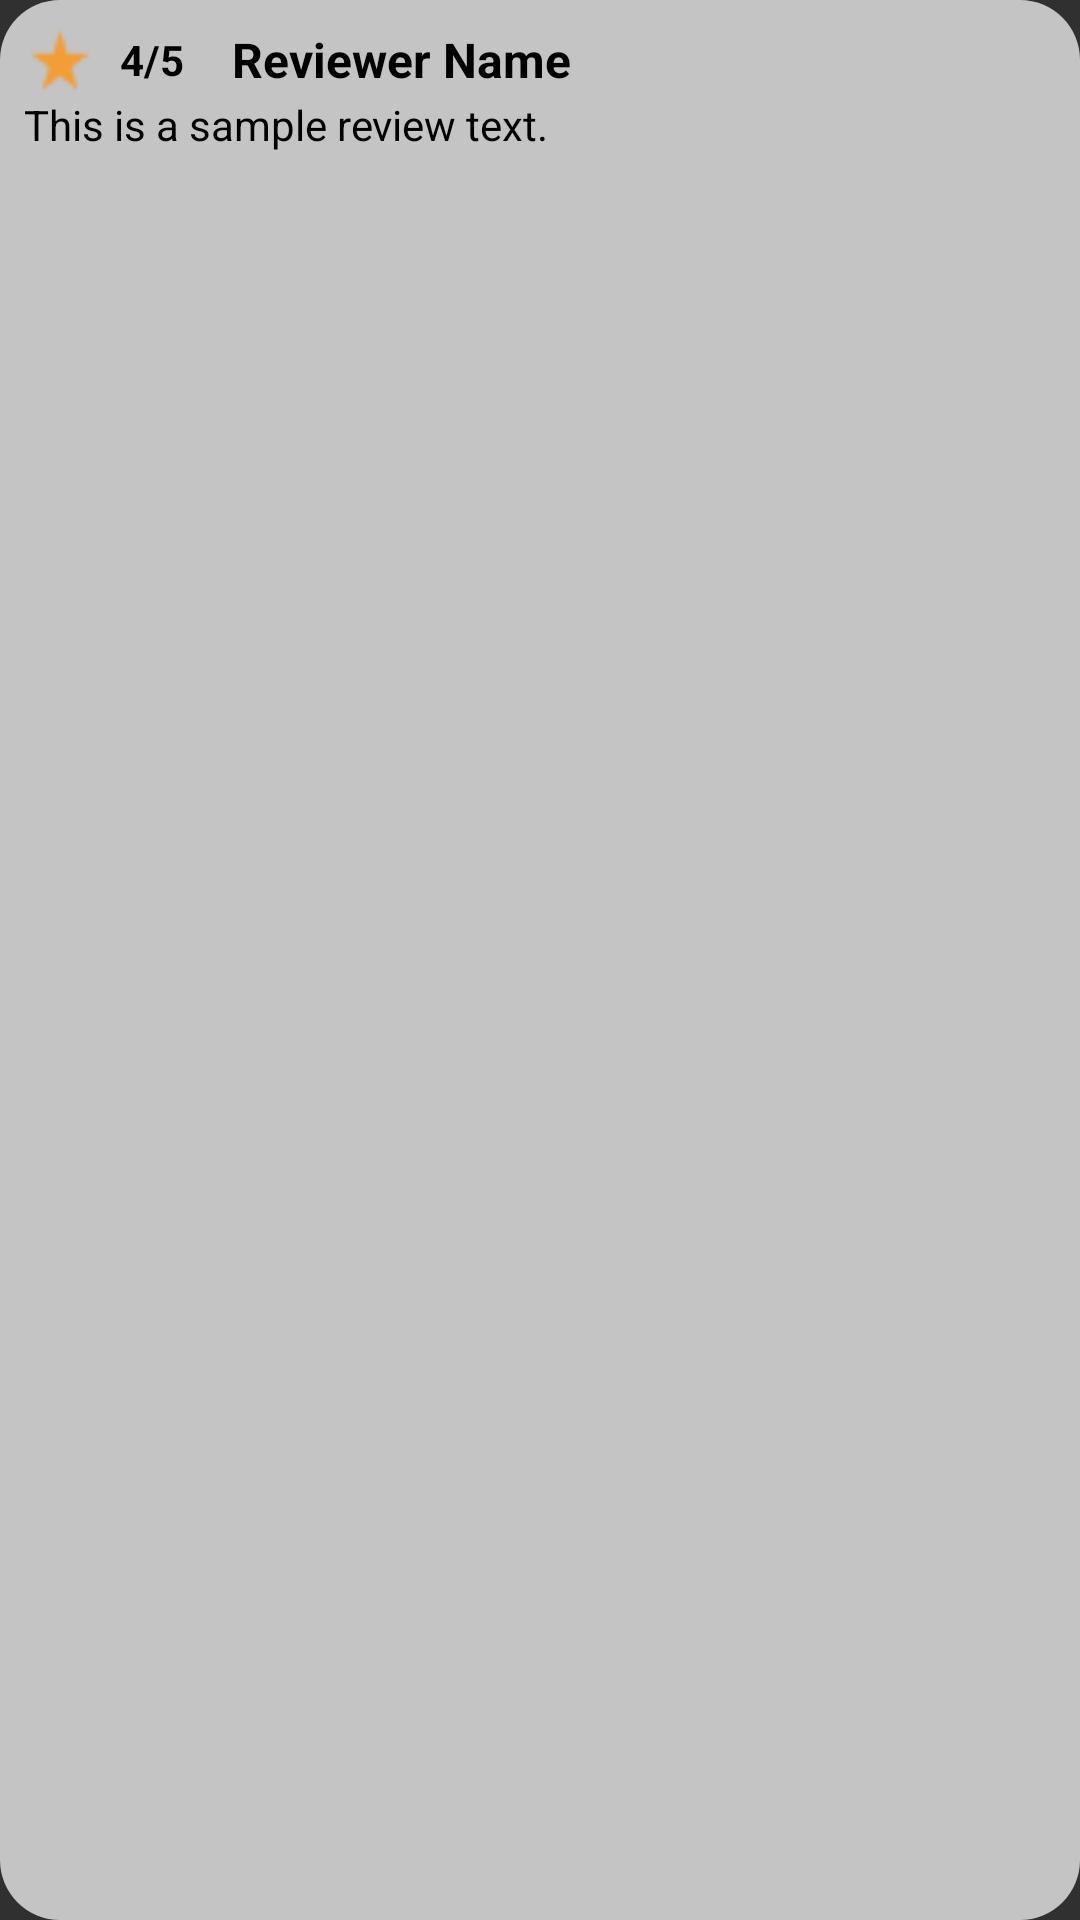

Screen size 1080 x 1920. Icon name, then its center in pixels as point (x, y):
star: point (60, 60)
